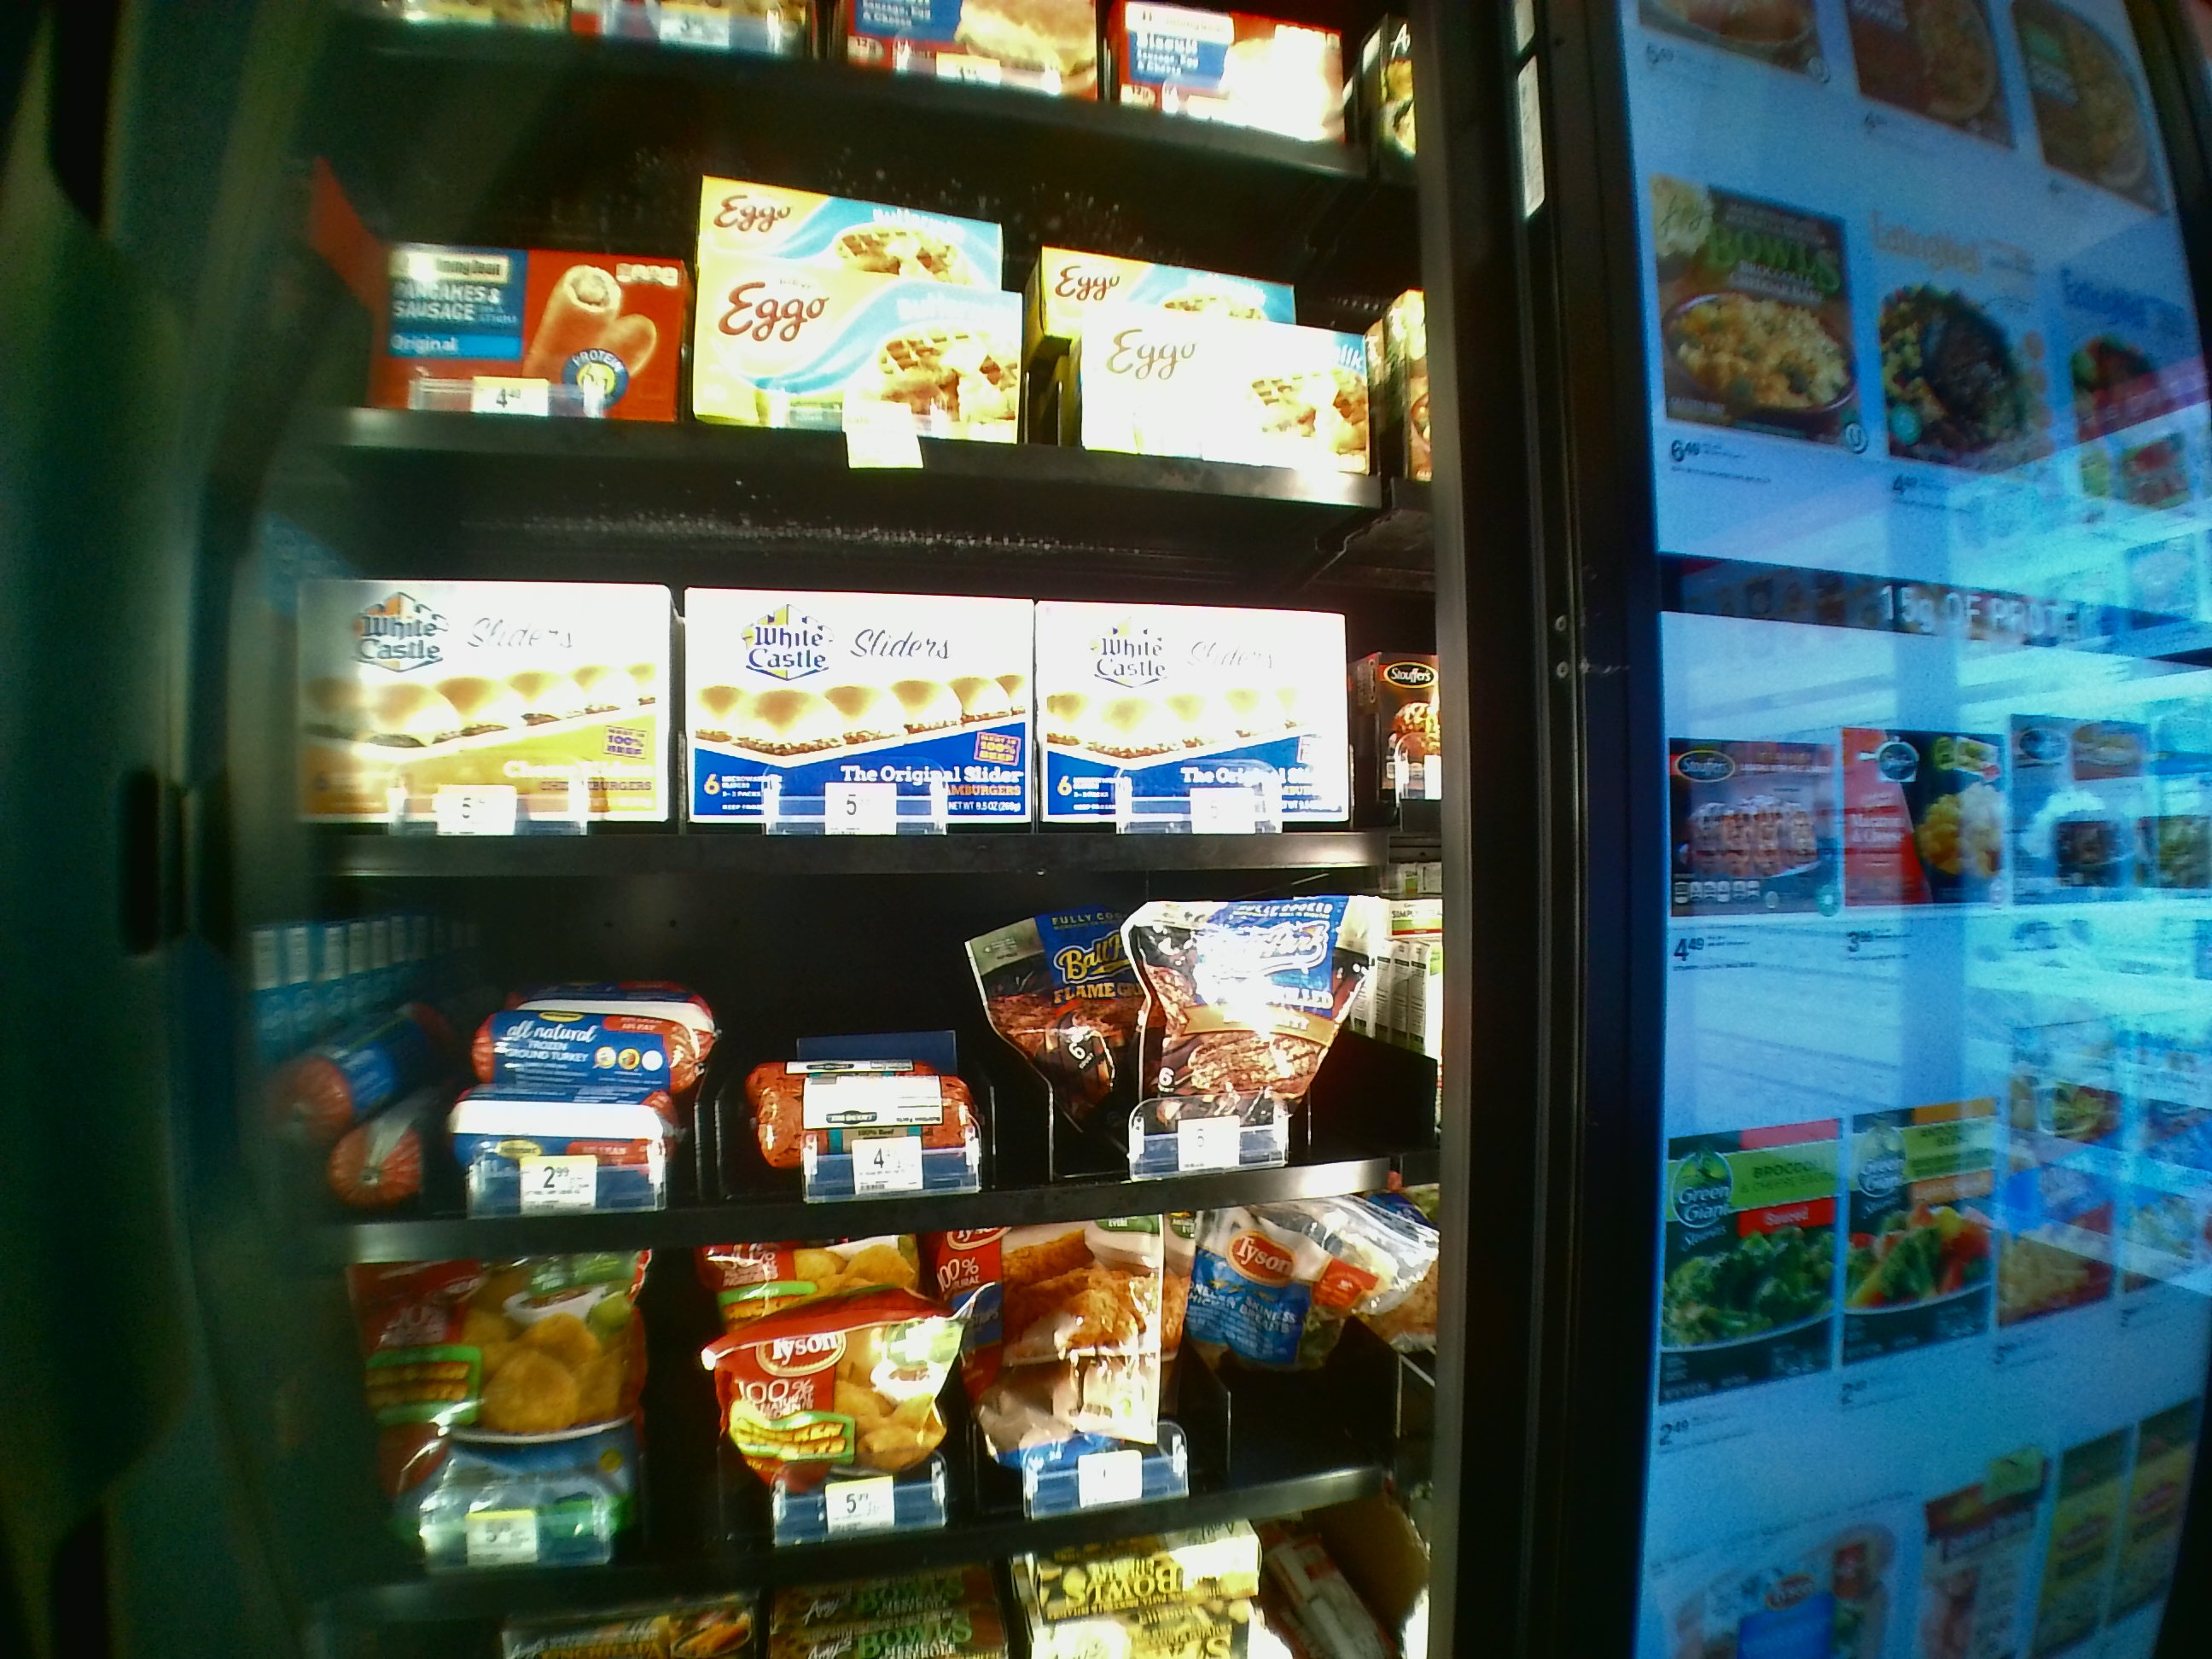shelf: (289, 455, 1425, 871), (279, 887, 1439, 1260)
